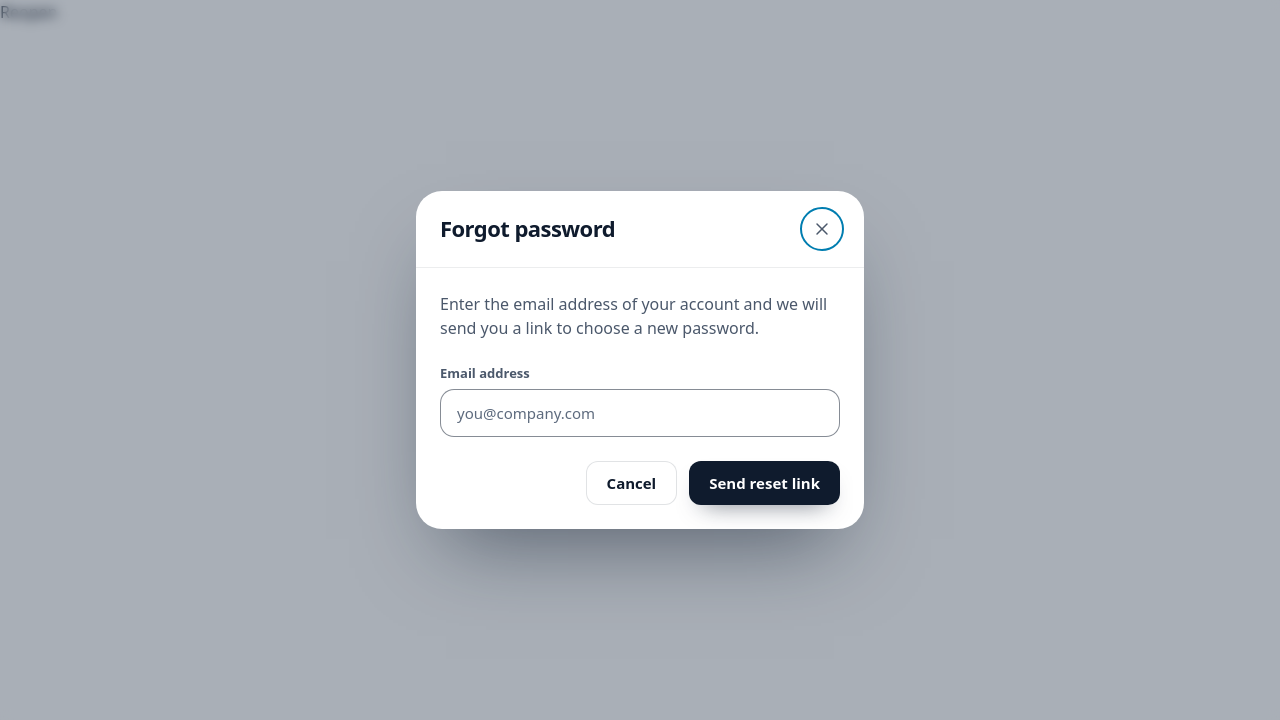
Test: ForgotPasswordModal › asks for an email address instead of sending an empty request
This screenshot has width=1280, height=720.
Click the button "Send reset link".
click(765, 483)  # box left=689, top=461, right=840, bottom=505
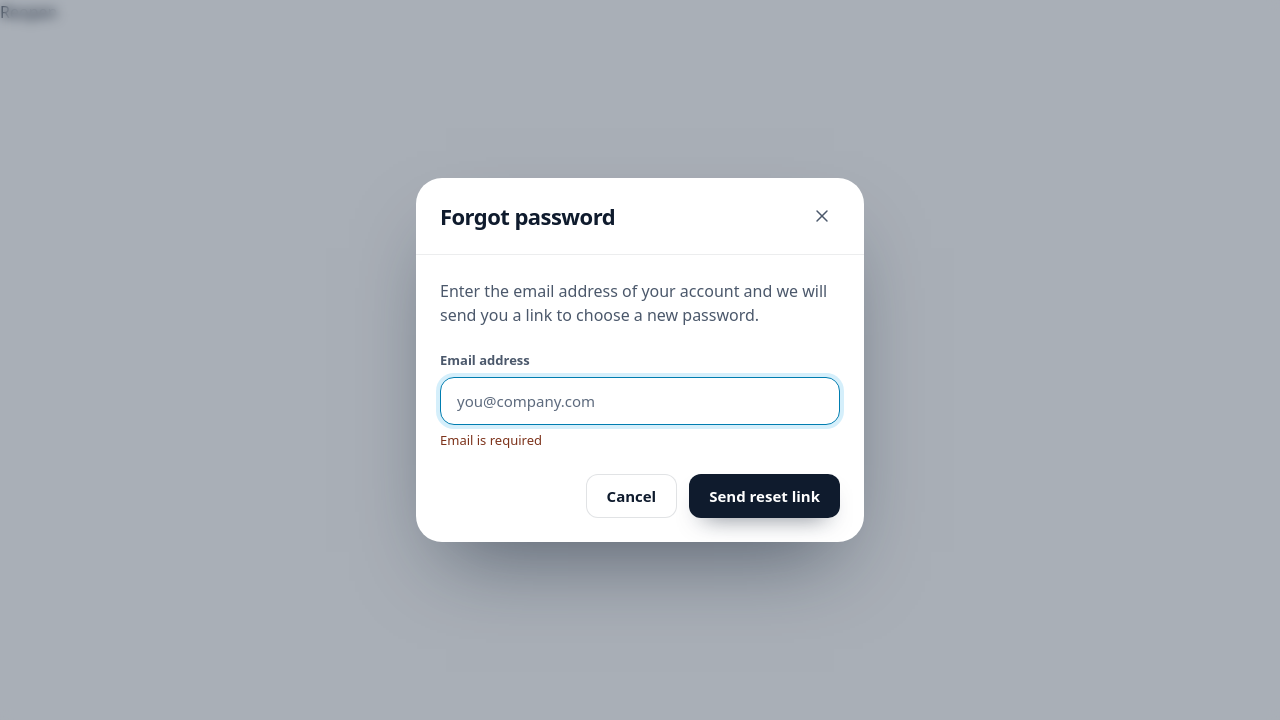
Now the text "Email is required" is shown, box left=440, top=430, right=542, bottom=448
